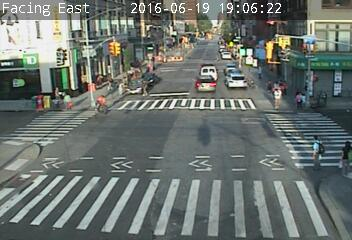neg: (190, 109, 212, 138), (122, 164, 142, 191), (58, 139, 78, 166), (106, 40, 124, 65), (254, 47, 272, 71), (165, 137, 183, 160), (218, 61, 235, 85), (94, 91, 111, 115), (307, 56, 322, 76), (73, 39, 87, 58), (21, 120, 35, 138), (47, 46, 61, 63), (196, 75, 209, 93)
pos: (321, 134, 350, 173), (302, 133, 331, 171), (269, 86, 286, 110), (63, 90, 78, 110), (50, 83, 65, 103), (139, 77, 152, 95), (293, 92, 305, 109)
